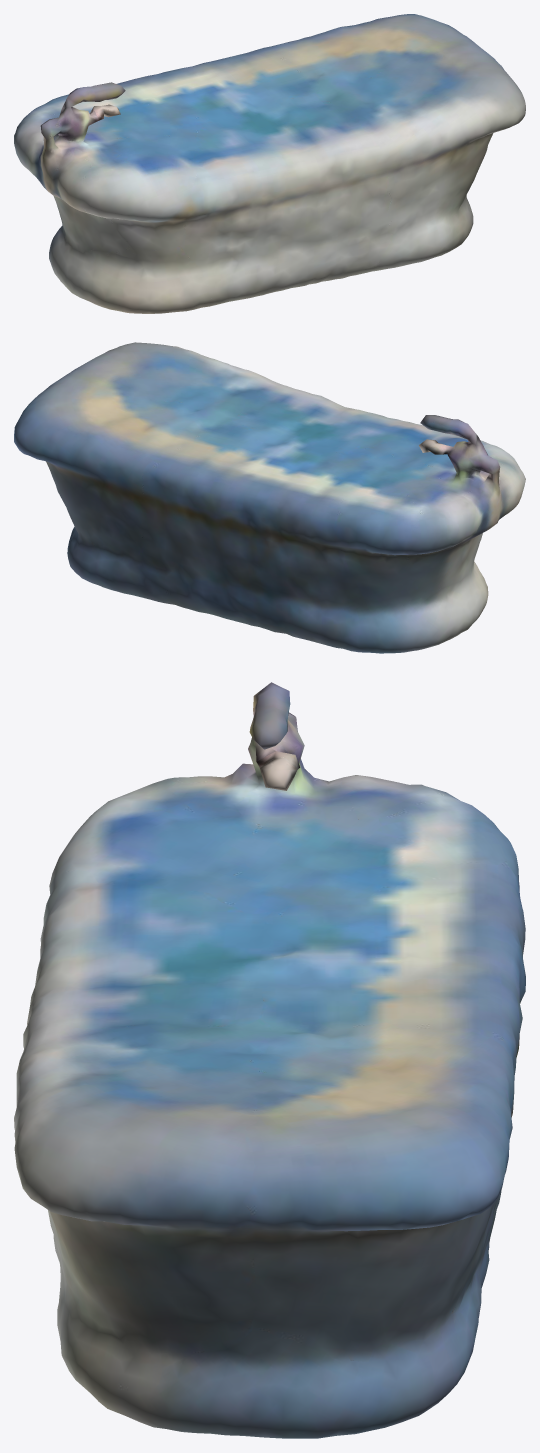
File: testNotwo.fbx
3 views of the same model, one above another, from view 1: azimuth 30°, elevation 25°; view 2: azimuth 150°, elevation 25°; view 3: azimuth 270°, elevation 25° (orthographic). The views are drawn at different scales.
Parts seen in each view (by area): view 1: Mesh1; view 2: Mesh1; view 3: Mesh1.
Boxes of the visible parts, x1=… form: Mesh1: x1=14, y1=14, x2=525, y2=313; Mesh1: x1=14, y1=342, x2=525, y2=653; Mesh1: x1=14, y1=682, x2=525, y2=1438.
Size of the model in its own units: 120 by 56.79 by 61.54.
Materials: 1 (1 with a texture image).
